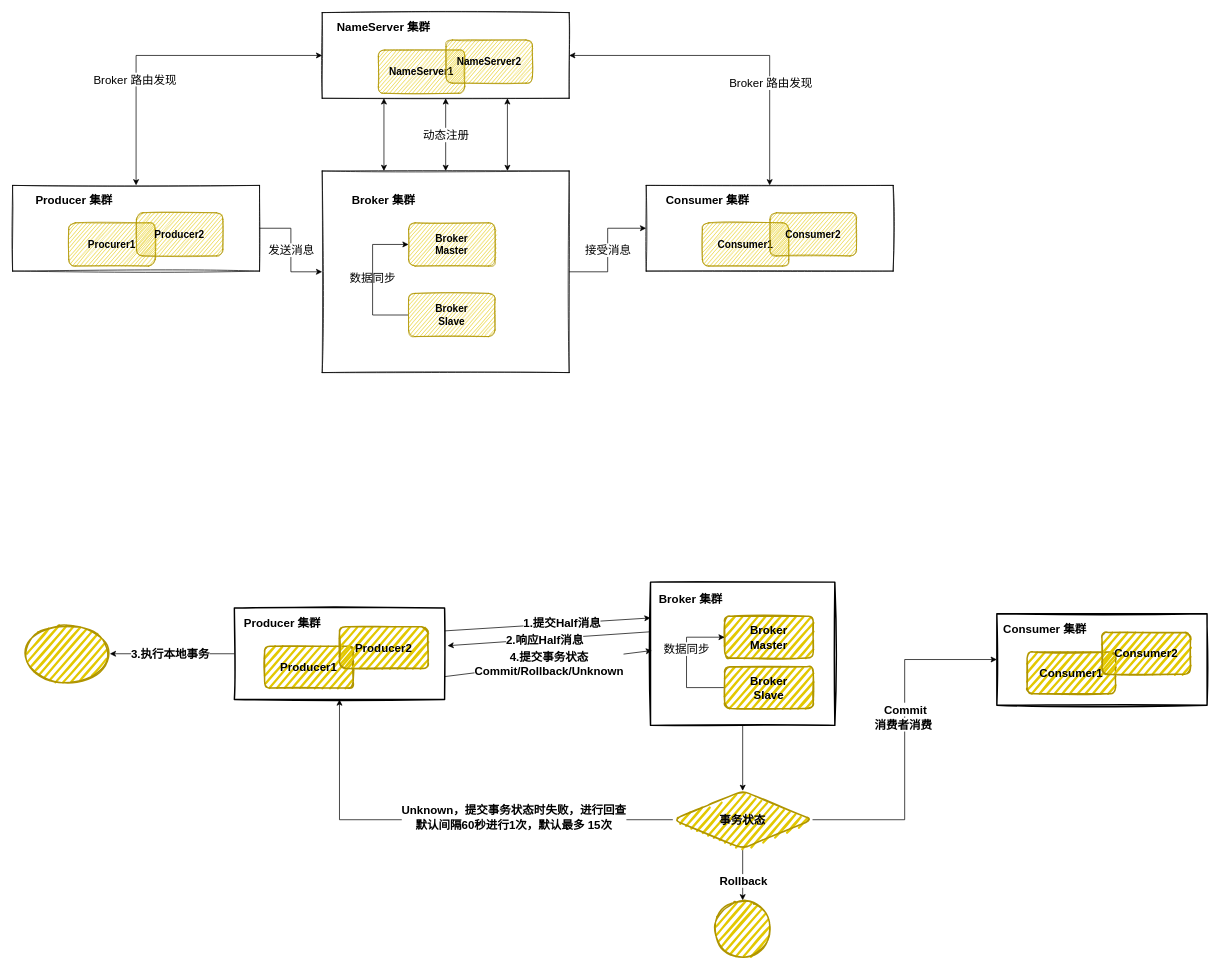
Some shapes in this 1220 by 971 pixel diagram are drawn without their labels. The shapes that lost their labels are listed below. From the top down, each one's centre as x and y in pixels, then its label:
pixel 66 653: 本地事务
pixel 742 928: 结束
